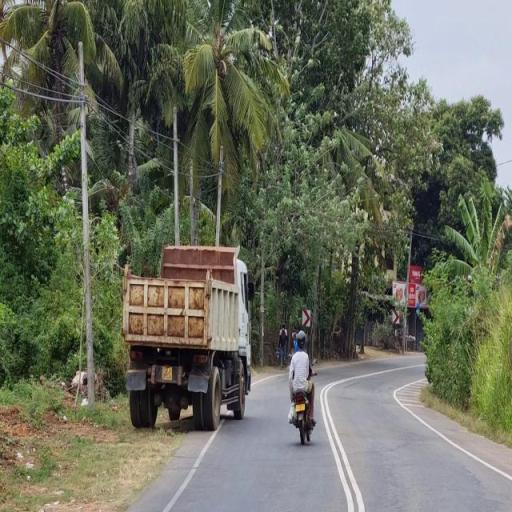double_white_line: (321, 377, 365, 512)
